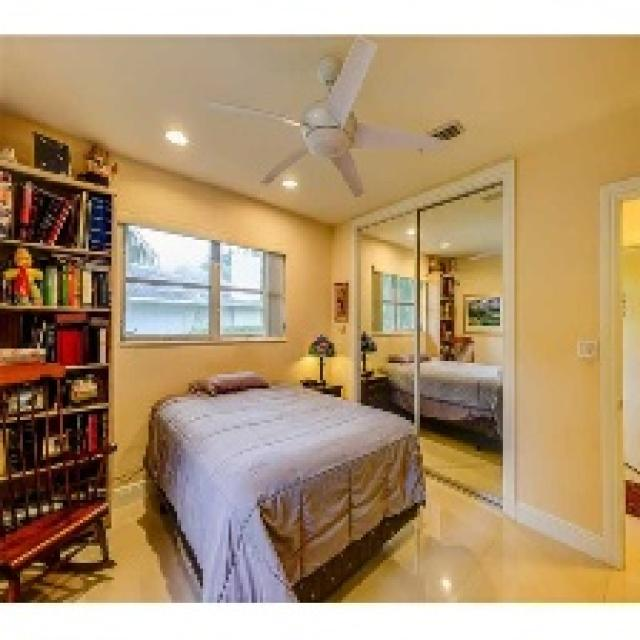Bed: (143, 377, 426, 600), (377, 354, 503, 446)
